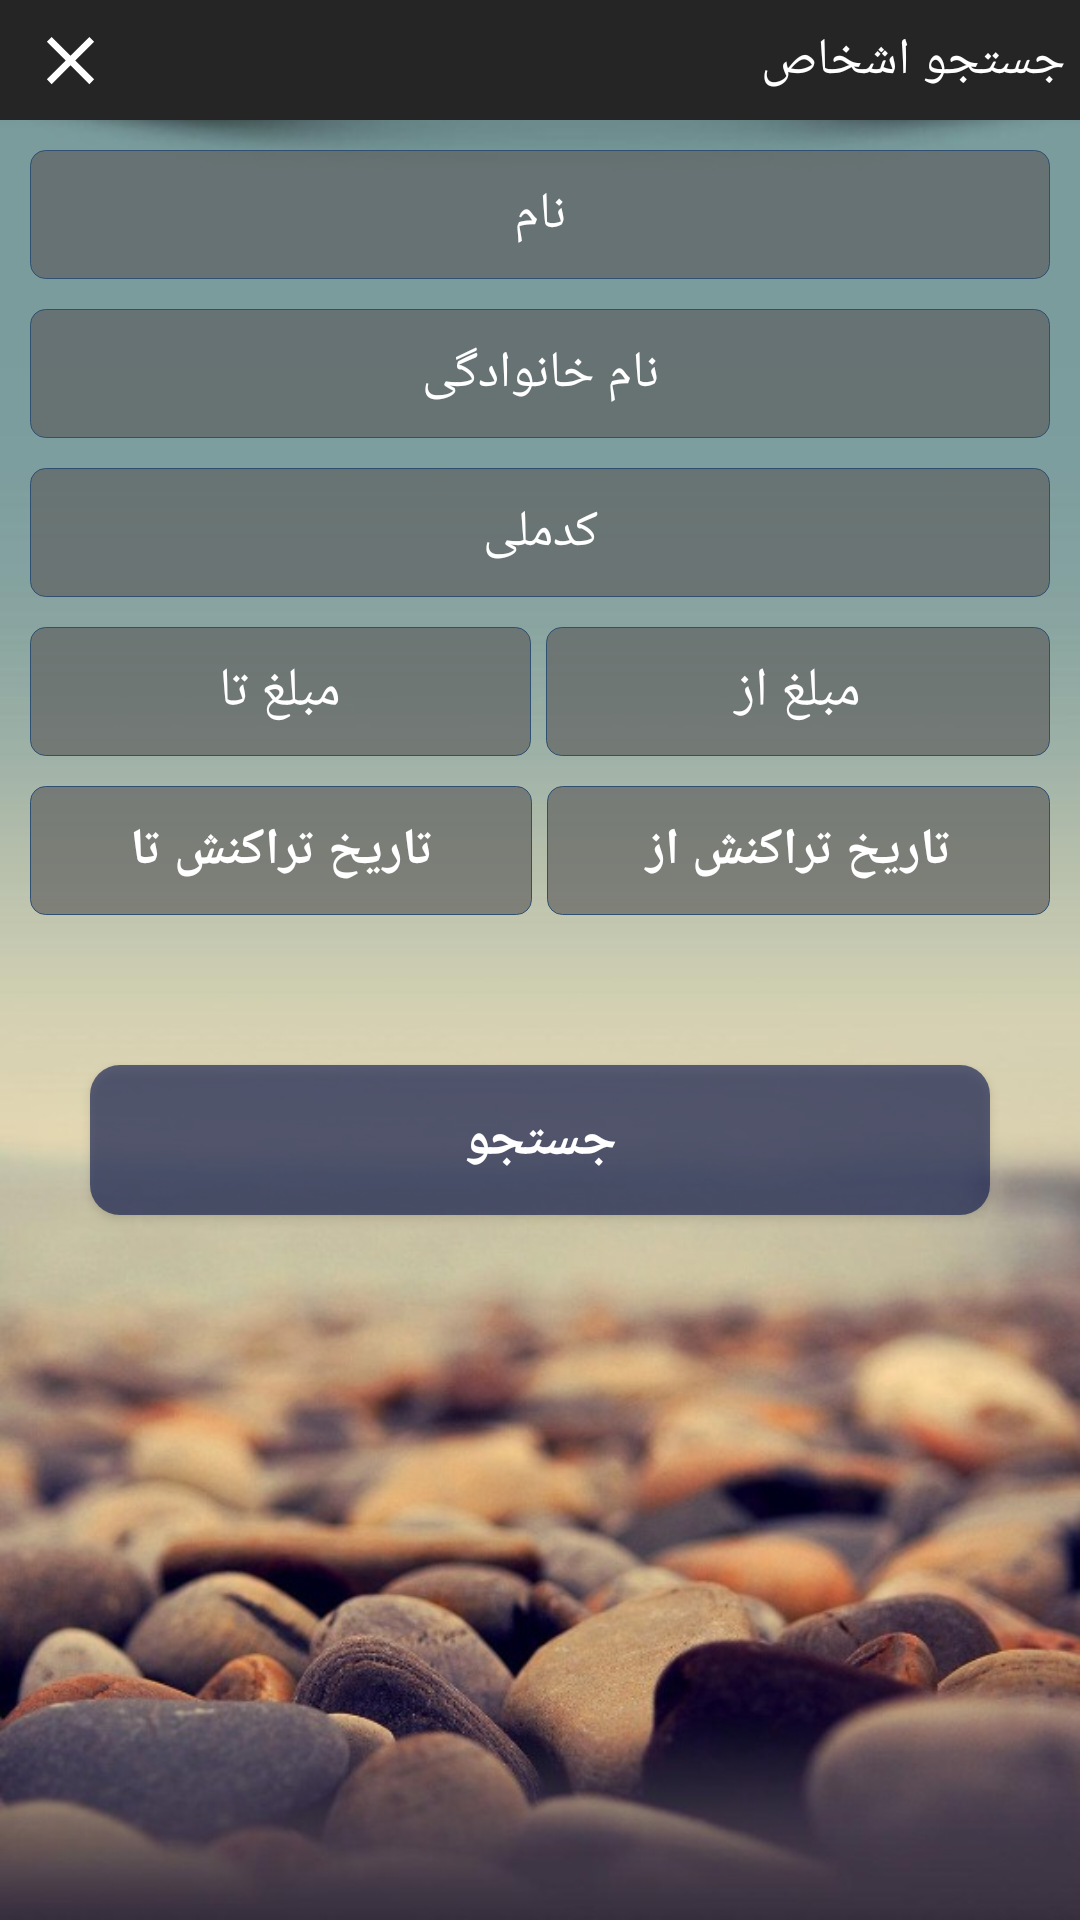

Named icons in this screenshot (1080 x 1920) and their centers, (x,y):
close dialog: (70,60)
